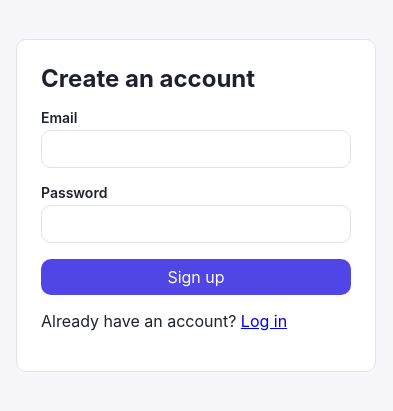
Test: RegisterPage › shows an error and stays on the page when registration fails
Type "grace@example.com" into the field labelled "Email" at coordinates (196, 148), box top-left (41, 130), bottom-right (351, 168)
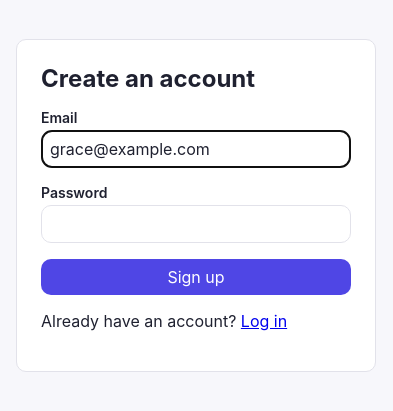
Type "password123" into the password field labelled "Password" at coordinates (196, 224), box top-left (41, 204), bottom-right (351, 242)
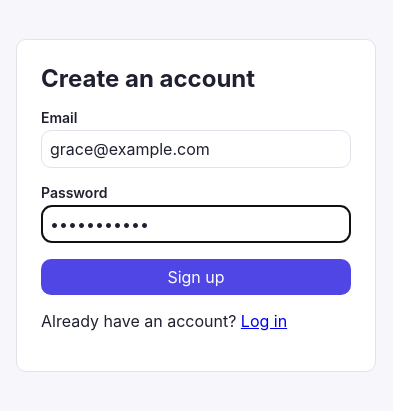
Click the button "Sign up" at coordinates (196, 276), box top-left (41, 258), bottom-right (351, 294)
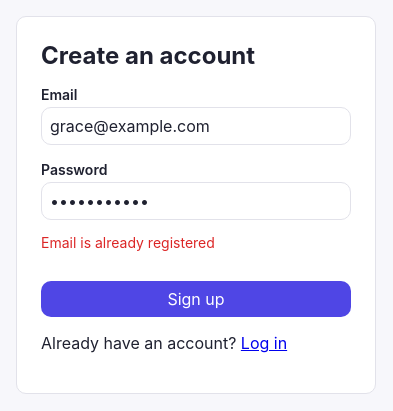
Expected: the heading "Create an account" is shown, top-left (41, 41), bottom-right (255, 70)
Result: the message reads "Email is already registered" at top-left (41, 234), bottom-right (215, 251)
